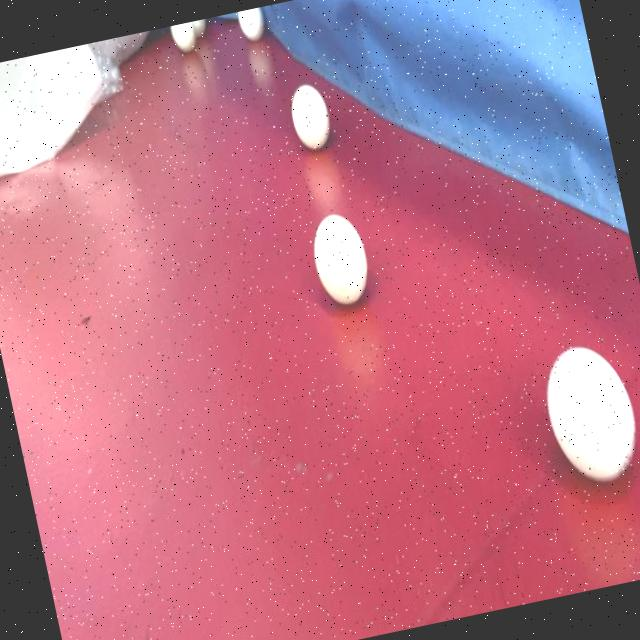ping-pong-ball: (529, 328, 640, 493), (302, 203, 377, 311), (281, 72, 339, 156), (234, 6, 268, 46), (167, 20, 200, 56)
